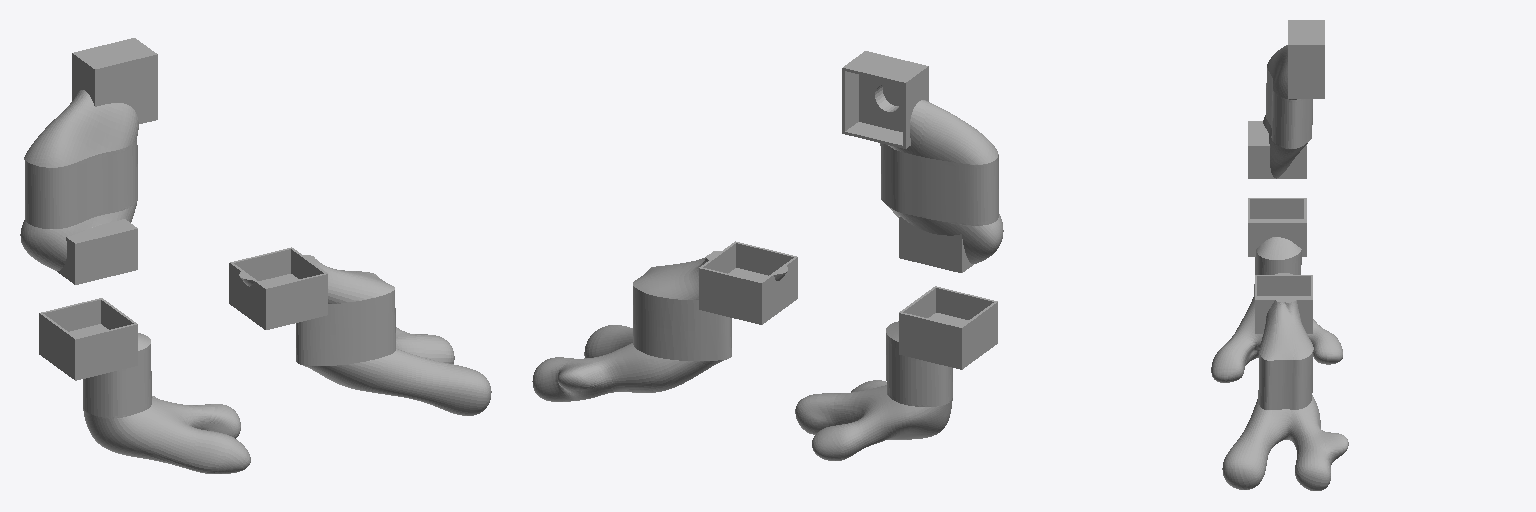
robot.urdf — FrogBot3_top-FrogBot3-y-9_bottom-FrogBot3-y-9:
<?xml version="1.0" ?>
<robot name="FrogBot3_top-FrogBot3-y-9_bottom-FrogBot3-y-9">

<material name="pla_5_percent_infill">
  <color rgba="0.700 0.700 0.700 1.000"/>
</material>

<link name="base_link">
  <inertial>
    <origin xyz="0 0 0" rpy="0 0 0"/>
    <mass value="1.5419899792307459"/>
    <inertia ixx="0.0054836076661745285" iyy="0.013703915460827342" izz="0.013742849788882953" ixy="5.961000823851627e-05" iyz="4.9944941207841843e-05" ixz="-0.0023657822822012154"/>
  </inertial>
  <visual>
    <origin xyz="0 0 0" rpy="0 0 0"/>
    <geometry>
      <mesh filename="simple_meshes/base_link.stl" scale="0.001 0.001 0.001"/>
    </geometry>
    <material name="pla_5_percent_infill"/>
  </visual>
  <collision>
    <origin xyz="0 0 0" rpy="0 0 0"/>
    <geometry>
      <mesh filename="simple_meshes/base_link.stl" scale="0.001 0.001 0.001"/>
    </geometry>
  </collision>
</link>

<link name="body_1_0_1">
  <inertial>
    <origin xyz="-0.065859 -0.113451 -0.001976" rpy="0 0 0"/>
    <mass value="0.05825244996075587"/>
    <inertia ixx="7.401779701818301e-05" iyy="9.274657633629422e-05" izz="3.144661036998228e-05" ixy="3.906924635971223e-06" iyz="5.81595740162434e-06" ixz="-2.1796843568814986e-05"/>
  </inertial>
  <visual>
    <origin xyz="-0.065859 -0.113451 -0.001976" rpy="0 0 0"/>
    <geometry>
      <mesh filename="simple_meshes/body_1_0_1.stl" scale="0.001 0.001 0.001"/>
    </geometry>
    <material name="pla_5_percent_infill"/>
  </visual>
  <collision>
    <origin xyz="-0.065859 -0.113451 -0.001976" rpy="0 0 0"/>
    <geometry>
      <mesh filename="simple_meshes/body_1_0_1.stl" scale="0.001 0.001 0.001"/>
    </geometry>
  </collision>
</link>

<link name="body_1_1_1">
  <inertial>
    <origin xyz="0.083929 -0.113451 -0.010696" rpy="0 0 0"/>
    <mass value="0.09018840338840749"/>
    <inertia ixx="0.00011034544128908901" iyy="0.00016147301227200468" izz="7.169689434959785e-05" ixy="7.1595030686100614e-06" iyz="1.4293410132438177e-05" ixz="-3.633021271587161e-05"/>
  </inertial>
  <visual>
    <origin xyz="0.083929 -0.113451 -0.010696" rpy="0 0 0"/>
    <geometry>
      <mesh filename="simple_meshes/body_1_1_1.stl" scale="0.001 0.001 0.001"/>
    </geometry>
    <material name="pla_5_percent_infill"/>
  </visual>
  <collision>
    <origin xyz="0.083929 -0.113451 -0.010696" rpy="0 0 0"/>
    <geometry>
      <mesh filename="simple_meshes/body_1_1_1.stl" scale="0.001 0.001 0.001"/>
    </geometry>
  </collision>
</link>

<link name="body_1_2_1">
  <inertial>
    <origin xyz="-0.060736 0.113451 -0.005366" rpy="0 0 0"/>
    <mass value="0.060377482328634796"/>
    <inertia ixx="8.061035058996619e-05" iyy="9.781911676444733e-05" izz="3.08981335929142e-05" ixy="-3.849492058857252e-06" iyz="-8.245144629617025e-06" ixz="-2.264904297466596e-05"/>
  </inertial>
  <visual>
    <origin xyz="-0.060736 0.113451 -0.005366" rpy="0 0 0"/>
    <geometry>
      <mesh filename="simple_meshes/body_1_2_1.stl" scale="0.001 0.001 0.001"/>
    </geometry>
    <material name="pla_5_percent_infill"/>
  </visual>
  <collision>
    <origin xyz="-0.060736 0.113451 -0.005366" rpy="0 0 0"/>
    <geometry>
      <mesh filename="simple_meshes/body_1_2_1.stl" scale="0.001 0.001 0.001"/>
    </geometry>
  </collision>
</link>

<link name="body_1_3_1">
  <inertial>
    <origin xyz="0.093982 0.113451 -0.005431" rpy="0 0 0"/>
    <mass value="0.0938692764327006"/>
    <inertia ixx="0.0001046186995870774" iyy="0.0001469423829291458" izz="6.591365614965101e-05" ixy="-5.552051593383459e-06" iyz="-1.29619168445878e-05" ixz="-2.6967552913130456e-05"/>
  </inertial>
  <visual>
    <origin xyz="0.093982 0.113451 -0.005431" rpy="0 0 0"/>
    <geometry>
      <mesh filename="simple_meshes/body_1_3_1.stl" scale="0.001 0.001 0.001"/>
    </geometry>
    <material name="pla_5_percent_infill"/>
  </visual>
  <collision>
    <origin xyz="0.093982 0.113451 -0.005431" rpy="0 0 0"/>
    <geometry>
      <mesh filename="simple_meshes/body_1_3_1.stl" scale="0.001 0.001 0.001"/>
    </geometry>
  </collision>
</link>

<link name="body_2_0_1">
  <inertial>
    <origin xyz="-0.026166 -0.164707 0.127895" rpy="0 0 0"/>
    <mass value="0.12142814301219355"/>
    <inertia ixx="0.00015726924153450055" iyy="0.0002881354570726897" izz="0.00021515924644420654" ixy="3.2779278202870604e-06" iyz="-5.447619948898211e-06" ixz="0.00011102038337744901"/>
  </inertial>
  <visual>
    <origin xyz="-0.026166 -0.164707 0.127895" rpy="0 0 0"/>
    <geometry>
      <mesh filename="simple_meshes/body_2_0_1.stl" scale="0.001 0.001 0.001"/>
    </geometry>
    <material name="pla_5_percent_infill"/>
  </visual>
  <collision>
    <origin xyz="-0.026166 -0.164707 0.127895" rpy="0 0 0"/>
    <geometry>
      <mesh filename="simple_meshes/body_2_0_1.stl" scale="0.001 0.001 0.001"/>
    </geometry>
  </collision>
</link>

<link name="body_2_1_1">
  <inertial>
    <origin xyz="0.127747 -0.174737 0.127895" rpy="0 0 0"/>
    <mass value="0.09571732939847451"/>
    <inertia ixx="0.00011195646025483844" iyy="0.0001651913556045886" izz="0.00011191993527143781" ixy="-1.041822947803737e-05" iyz="5.977710212816401e-06" ixz="6.22998779587899e-05"/>
  </inertial>
  <visual>
    <origin xyz="0.127747 -0.174737 0.127895" rpy="0 0 0"/>
    <geometry>
      <mesh filename="simple_meshes/body_2_1_1.stl" scale="0.001 0.001 0.001"/>
    </geometry>
    <material name="pla_5_percent_infill"/>
  </visual>
  <collision>
    <origin xyz="0.127747 -0.174737 0.127895" rpy="0 0 0"/>
    <geometry>
      <mesh filename="simple_meshes/body_2_1_1.stl" scale="0.001 0.001 0.001"/>
    </geometry>
  </collision>
</link>

<link name="body_2_2_1">
  <inertial>
    <origin xyz="-0.021708 0.167525 0.127895" rpy="0 0 0"/>
    <mass value="0.11898774937774143"/>
    <inertia ixx="0.0001544200841262517" iyy="0.0002833430003338789" izz="0.0002102682674553786" ixy="2.8769886577021102e-06" iyz="-2.2440762868902037e-06" ixz="0.000109949722128837"/>
  </inertial>
  <visual>
    <origin xyz="-0.021708 0.167525 0.127895" rpy="0 0 0"/>
    <geometry>
      <mesh filename="simple_meshes/body_2_2_1.stl" scale="0.001 0.001 0.001"/>
    </geometry>
    <material name="pla_5_percent_infill"/>
  </visual>
  <collision>
    <origin xyz="-0.021708 0.167525 0.127895" rpy="0 0 0"/>
    <geometry>
      <mesh filename="simple_meshes/body_2_2_1.stl" scale="0.001 0.001 0.001"/>
    </geometry>
  </collision>
</link>

<link name="body_2_3_1">
  <inertial>
    <origin xyz="0.128136 0.172985 0.127895" rpy="0 0 0"/>
    <mass value="0.09031557015637327"/>
    <inertia ixx="0.00010964595064733192" iyy="0.0001543168102944477" izz="0.00010846688739868902" ixy="8.577887715155788e-06" iyz="-7.466082158280422e-06" ixz="5.684621143704099e-05"/>
  </inertial>
  <visual>
    <origin xyz="0.128136 0.172985 0.127895" rpy="0 0 0"/>
    <geometry>
      <mesh filename="simple_meshes/body_2_3_1.stl" scale="0.001 0.001 0.001"/>
    </geometry>
    <material name="pla_5_percent_infill"/>
  </visual>
  <collision>
    <origin xyz="0.128136 0.172985 0.127895" rpy="0 0 0"/>
    <geometry>
      <mesh filename="simple_meshes/body_2_3_1.stl" scale="0.001 0.001 0.001"/>
    </geometry>
  </collision>
</link>

<joint name="joint_1_0" type="revolute">
  <origin xyz="0.065859 0.113451 0.001976" rpy="0 0 0"/>
  <parent link="base_link"/>
  <child link="body_1_0_1"/>
  <axis xyz="0.0 0.0 -1.0"/>
  <limit upper="1.2" lower="-1.2" effort="3.8" velocity="5.4"/>
</joint>
<transmission name="joint_1_0_tran">
  <type>transmission_interface/SimpleTransmission</type>
  <joint name="joint_1_0">
    <hardwareInterface>PositionJointInterface</hardwareInterface>
  </joint>
  <actuator name="joint_1_0_actr">
    <hardwareInterface>PositionJointInterface</hardwareInterface>
    <mechanicalReduction>1</mechanicalReduction>
  </actuator>
</transmission>

<joint name="joint_1_1" type="revolute">
  <origin xyz="-0.083929 0.113451 0.010696" rpy="0 0 0"/>
  <parent link="base_link"/>
  <child link="body_1_1_1"/>
  <axis xyz="0.0 0.0 -1.0"/>
  <limit upper="1.2" lower="-1.2" effort="3.8" velocity="5.4"/>
</joint>
<transmission name="joint_1_1_tran">
  <type>transmission_interface/SimpleTransmission</type>
  <joint name="joint_1_1">
    <hardwareInterface>PositionJointInterface</hardwareInterface>
  </joint>
  <actuator name="joint_1_1_actr">
    <hardwareInterface>PositionJointInterface</hardwareInterface>
    <mechanicalReduction>1</mechanicalReduction>
  </actuator>
</transmission>

<joint name="joint_1_2" type="revolute">
  <origin xyz="0.060736 -0.113451 0.005366" rpy="0 0 0"/>
  <parent link="base_link"/>
  <child link="body_1_2_1"/>
  <axis xyz="0.0 0.0 -1.0"/>
  <limit upper="1.2" lower="-1.2" effort="3.8" velocity="5.4"/>
</joint>
<transmission name="joint_1_2_tran">
  <type>transmission_interface/SimpleTransmission</type>
  <joint name="joint_1_2">
    <hardwareInterface>PositionJointInterface</hardwareInterface>
  </joint>
  <actuator name="joint_1_2_actr">
    <hardwareInterface>PositionJointInterface</hardwareInterface>
    <mechanicalReduction>1</mechanicalReduction>
  </actuator>
</transmission>

<joint name="joint_1_3" type="revolute">
  <origin xyz="-0.093982 -0.113451 0.005431" rpy="0 0 0"/>
  <parent link="base_link"/>
  <child link="body_1_3_1"/>
  <axis xyz="0.0 0.0 -1.0"/>
  <limit upper="1.2" lower="-1.2" effort="3.8" velocity="5.4"/>
</joint>
<transmission name="joint_1_3_tran">
  <type>transmission_interface/SimpleTransmission</type>
  <joint name="joint_1_3">
    <hardwareInterface>PositionJointInterface</hardwareInterface>
  </joint>
  <actuator name="joint_1_3_actr">
    <hardwareInterface>PositionJointInterface</hardwareInterface>
    <mechanicalReduction>1</mechanicalReduction>
  </actuator>
</transmission>

<joint name="joint_2_0" type="revolute">
  <origin xyz="-0.039693 0.051256 -0.129871" rpy="0 0 0"/>
  <parent link="body_1_0_1"/>
  <child link="body_2_0_1"/>
  <axis xyz="0.0 1.0 0.0"/>
  <limit upper="1.2" lower="-1.2" effort="3.8" velocity="5.4"/>
</joint>
<transmission name="joint_2_0_tran">
  <type>transmission_interface/SimpleTransmission</type>
  <joint name="joint_2_0">
    <hardwareInterface>PositionJointInterface</hardwareInterface>
  </joint>
  <actuator name="joint_2_0_actr">
    <hardwareInterface>PositionJointInterface</hardwareInterface>
    <mechanicalReduction>1</mechanicalReduction>
  </actuator>
</transmission>

<joint name="joint_2_1" type="revolute">
  <origin xyz="-0.043818 0.061286 -0.138591" rpy="0 0 0"/>
  <parent link="body_1_1_1"/>
  <child link="body_2_1_1"/>
  <axis xyz="0.0 1.0 0.0"/>
  <limit upper="1.2" lower="-1.2" effort="3.8" velocity="5.4"/>
</joint>
<transmission name="joint_2_1_tran">
  <type>transmission_interface/SimpleTransmission</type>
  <joint name="joint_2_1">
    <hardwareInterface>PositionJointInterface</hardwareInterface>
  </joint>
  <actuator name="joint_2_1_actr">
    <hardwareInterface>PositionJointInterface</hardwareInterface>
    <mechanicalReduction>1</mechanicalReduction>
  </actuator>
</transmission>

<joint name="joint_2_2" type="revolute">
  <origin xyz="-0.039028 -0.054074 -0.133261" rpy="0 0 0"/>
  <parent link="body_1_2_1"/>
  <child link="body_2_2_1"/>
  <axis xyz="0.0 1.0 0.0"/>
  <limit upper="1.2" lower="-1.2" effort="3.8" velocity="5.4"/>
</joint>
<transmission name="joint_2_2_tran">
  <type>transmission_interface/SimpleTransmission</type>
  <joint name="joint_2_2">
    <hardwareInterface>PositionJointInterface</hardwareInterface>
  </joint>
  <actuator name="joint_2_2_actr">
    <hardwareInterface>PositionJointInterface</hardwareInterface>
    <mechanicalReduction>1</mechanicalReduction>
  </actuator>
</transmission>

<joint name="joint_2_3" type="revolute">
  <origin xyz="-0.034154 -0.059534 -0.133326" rpy="0 0 0"/>
  <parent link="body_1_3_1"/>
  <child link="body_2_3_1"/>
  <axis xyz="0.0 1.0 0.0"/>
  <limit upper="1.2" lower="-1.2" effort="3.8" velocity="5.4"/>
</joint>
<transmission name="joint_2_3_tran">
  <type>transmission_interface/SimpleTransmission</type>
  <joint name="joint_2_3">
    <hardwareInterface>PositionJointInterface</hardwareInterface>
  </joint>
  <actuator name="joint_2_3_actr">
    <hardwareInterface>PositionJointInterface</hardwareInterface>
    <mechanicalReduction>1</mechanicalReduction>
  </actuator>
</transmission>

</robot>

--- Render facts (derived) ---
The picture shows the robot from 3 angles, left to right: view 1: azimuth 30°, elevation 25°; view 2: azimuth 150°, elevation 25°; view 3: azimuth 270°, elevation 25°; orthographic projection.
Robot: FrogBot3_top-FrogBot3-y-9_bottom-FrogBot3-y-9 — 9 links, 8 joints (8 revolute); root link base_link; default pose: every joint at zero.
Links seen in each view (by area): view 1: body_1_3_1, body_2_2_1, body_2_3_1; view 2: body_1_3_1, body_2_2_1, body_2_3_1; view 3: body_2_2_1, body_1_3_1, body_2_3_1.
Link boxes in pixels (x1,y1,x2,y2): body_1_3_1: [20, 38, 157, 284]; body_2_2_1: [229, 247, 491, 415]; body_2_3_1: [39, 298, 250, 473]; body_1_3_1: [842, 51, 1003, 272]; body_2_2_1: [532, 241, 797, 401]; body_2_3_1: [795, 286, 997, 460]; body_2_2_1: [1222, 273, 1348, 490]; body_1_3_1: [1248, 20, 1324, 178]; body_2_3_1: [1211, 198, 1342, 382].
Size in the robot's own frame: 0.3419 by 0.1132 by 0.3009 metres.
Meshes: 9 distinct files referenced, 3 mesh visuals loaded (3 binary STL); not drawn: 6 (reference not matched to a file when rendering).